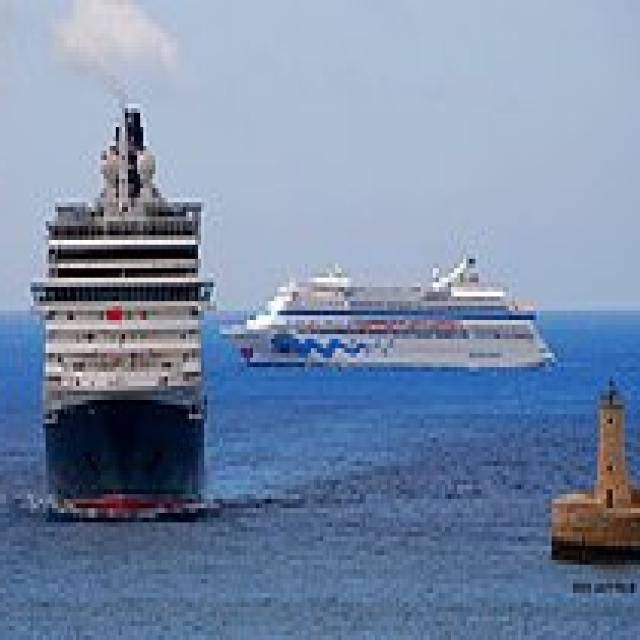Cruise: (31, 94, 222, 518), (222, 240, 561, 372)
